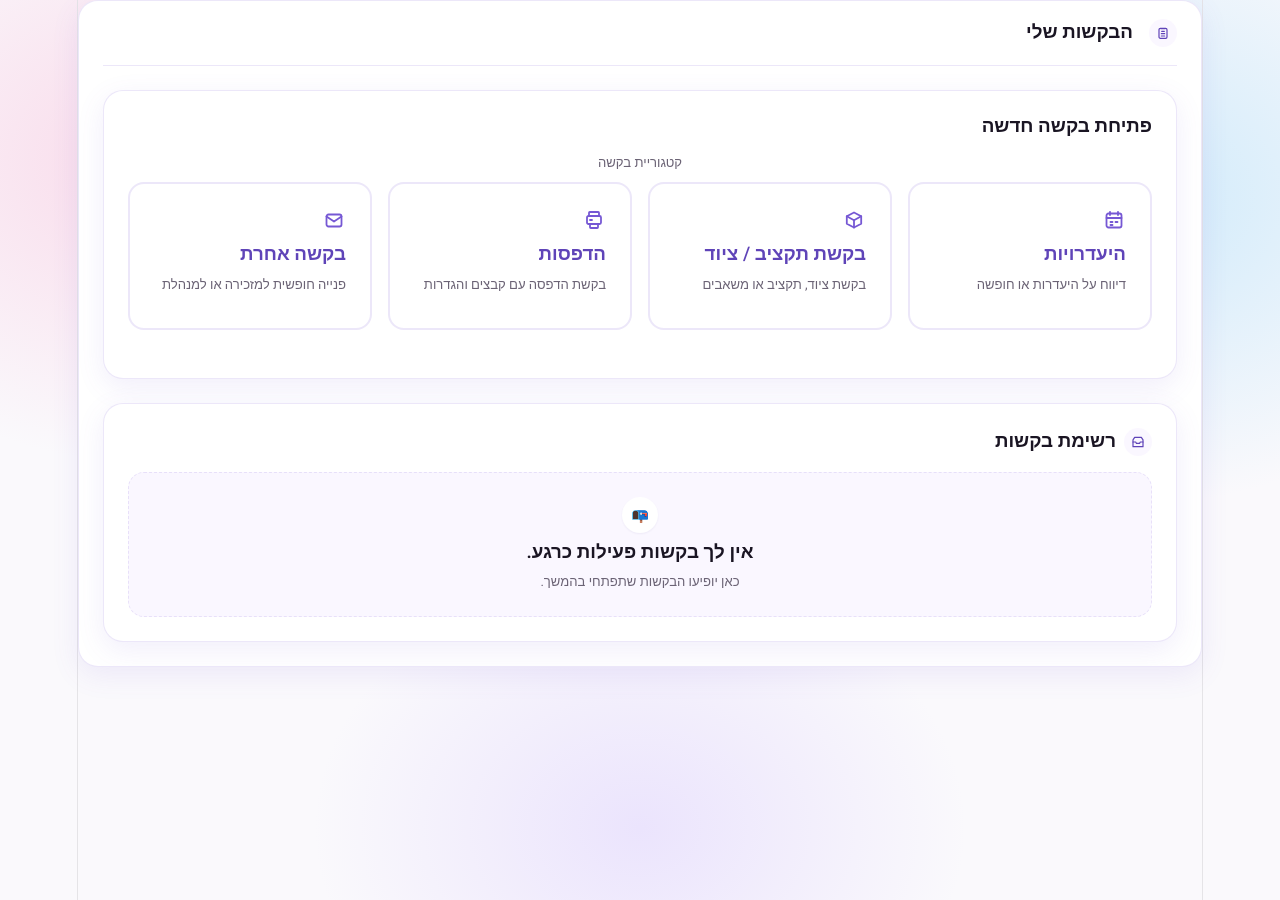
Scenario: TeacherRequestsSection modal create flow › opens Printing home with New Request and My Requests actions
Click the radio button labelled "הדפסות בקשת הדפסה עם קבצים והגדרות" at {"x": 510, "y": 256}, box x1=388 y1=182 x2=632 y2=330
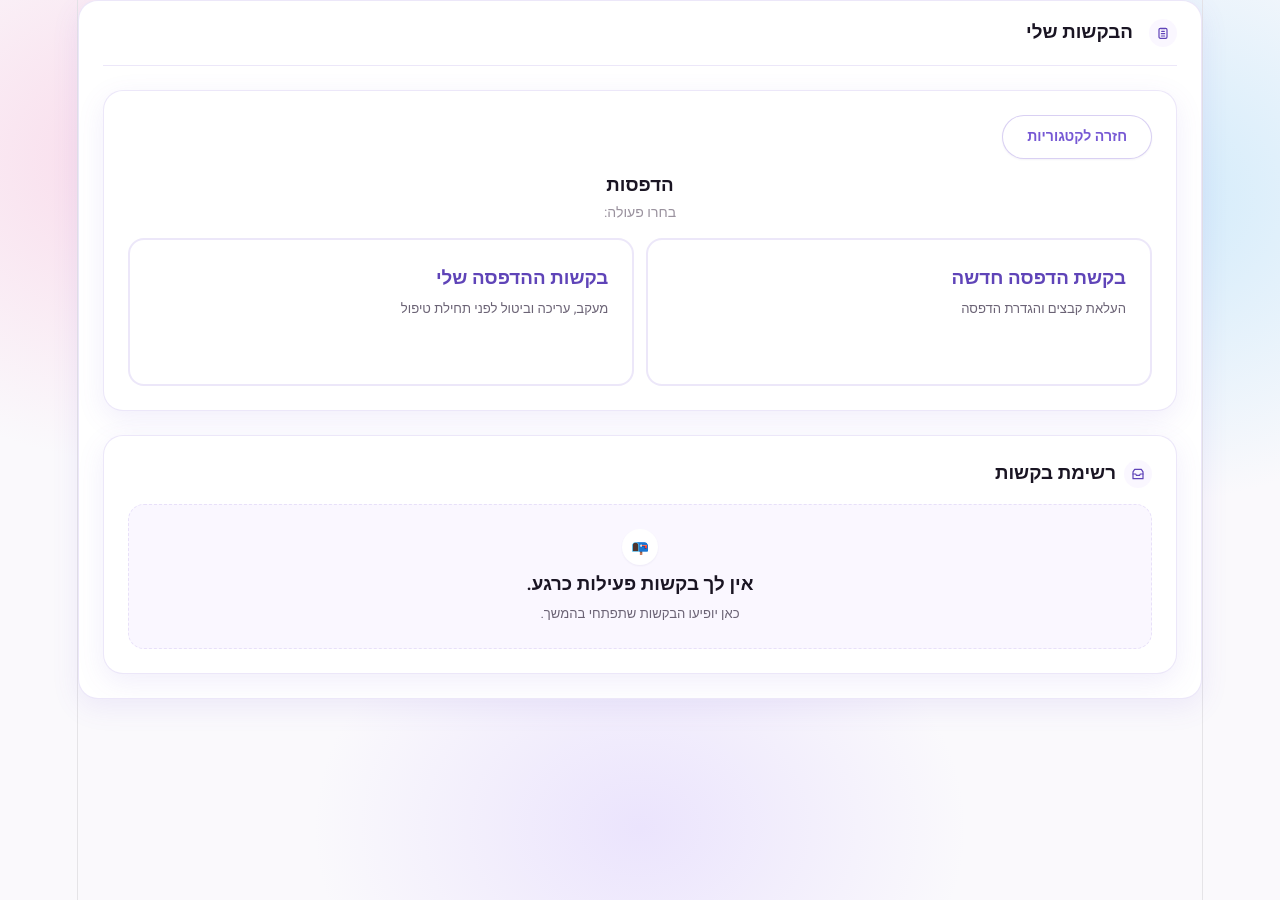
Check: the button "בקשת הדפסה חדשה העלאת קבצים והגדרת הדפסה" is shown, box x1=646 y1=238 x2=1152 y2=386
Check: the button "בקשות ההדפסה שלי מעקב, עריכה וביטול לפני תחילת טיפול" is shown, box x1=128 y1=238 x2=634 y2=386
